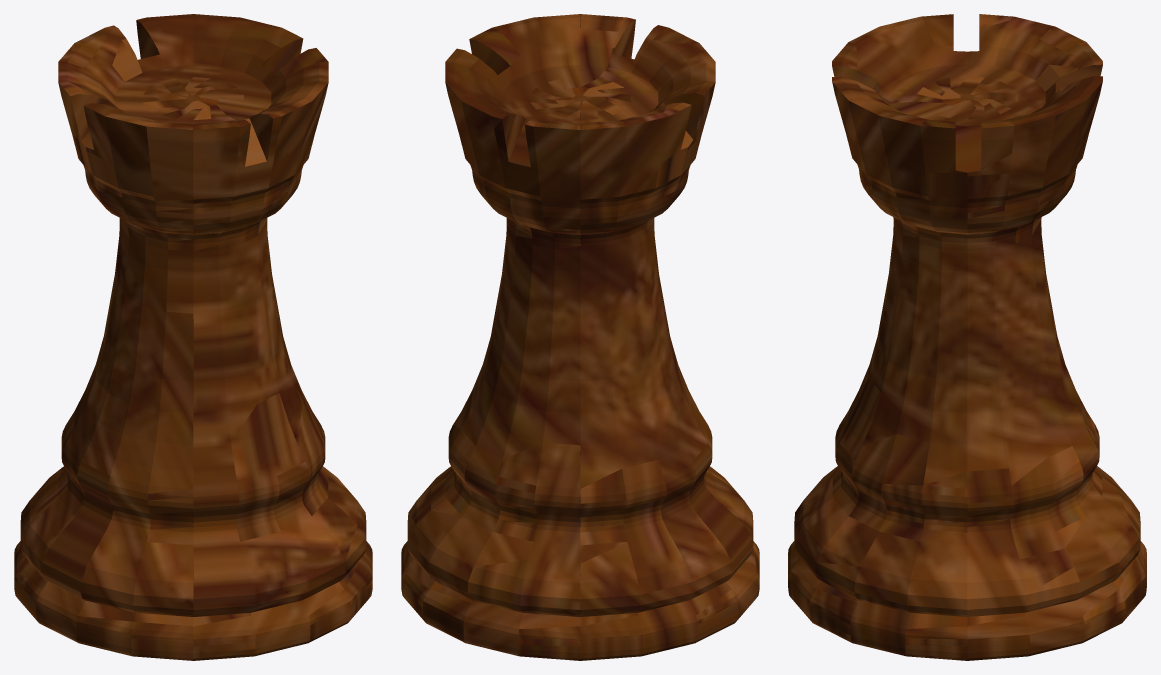
The model's file is rook_2.obj.
The picture shows the model from 3 angles, left to right: view 1: azimuth 30°, elevation 25°; view 2: azimuth 150°, elevation 25°; view 3: azimuth 270°, elevation 25°; orthographic projection.
Parts seen in each view (by area): view 1: TORRE02; view 2: TORRE02; view 3: TORRE02.
Part boxes in pixels (left/top/right/bottom): TORRE02: left=14, top=14, right=372, bottom=660; TORRE02: left=401, top=14, right=759, bottom=660; TORRE02: left=788, top=14, right=1146, bottom=660.
Size of the model in its own units: 82.95 by 130 by 81.69.
1 material, 1 textured.
